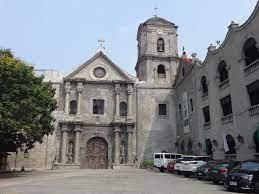san_agustin_church_intramuros_manila: (57, 3, 185, 172)
